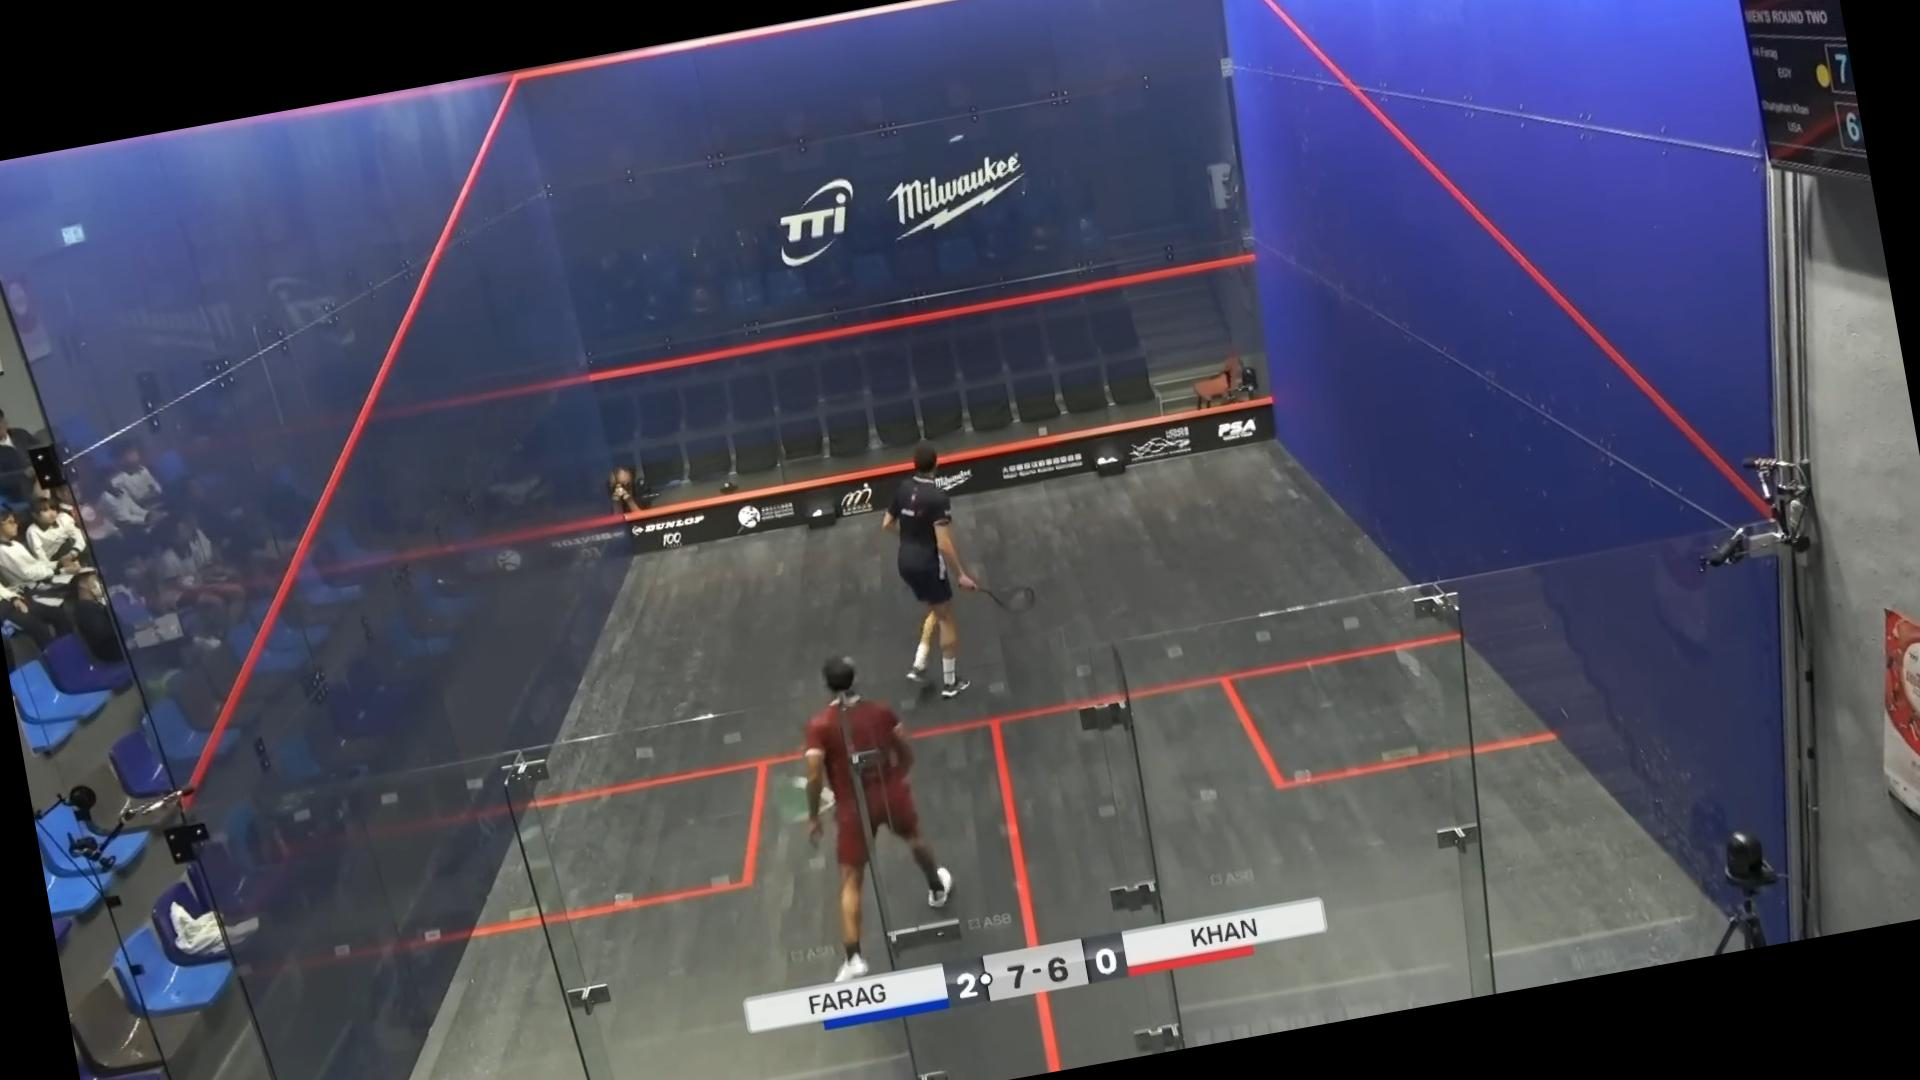Racket: (960, 574, 1042, 626)
